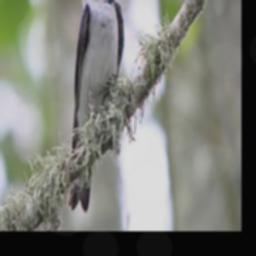Swallow: (65, 0, 125, 214)
